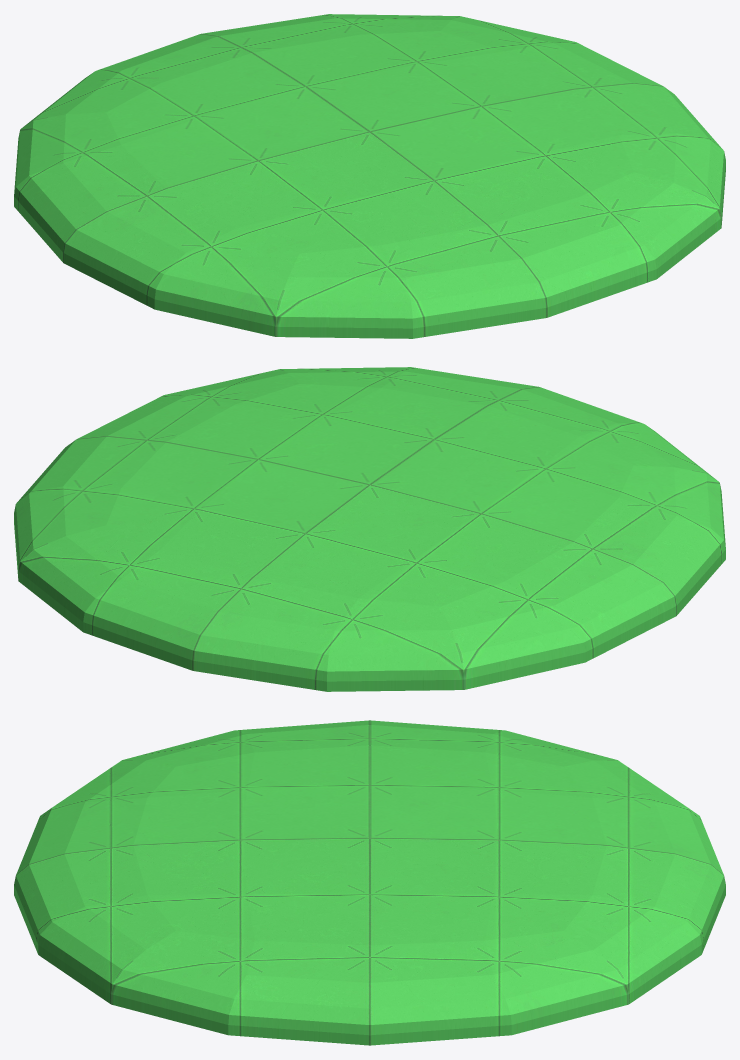
The model's file is platform.fbx.
The picture shows the model from 3 angles, top to bottom: view 1: azimuth 30°, elevation 25°; view 2: azimuth 150°, elevation 25°; view 3: azimuth 270°, elevation 25°; orthographic projection.
Visible parts, largest first — view 1: Plane; view 2: Plane; view 3: Plane.
Part boxes in pixels (x1,y1,x2,y2): Plane: [14, 14, 725, 338]; Plane: [14, 367, 725, 691]; Plane: [14, 720, 725, 1045].
Size of the model in its own units: 183 by 16.17 by 183.
Materials: 1 (1 with a texture image).
